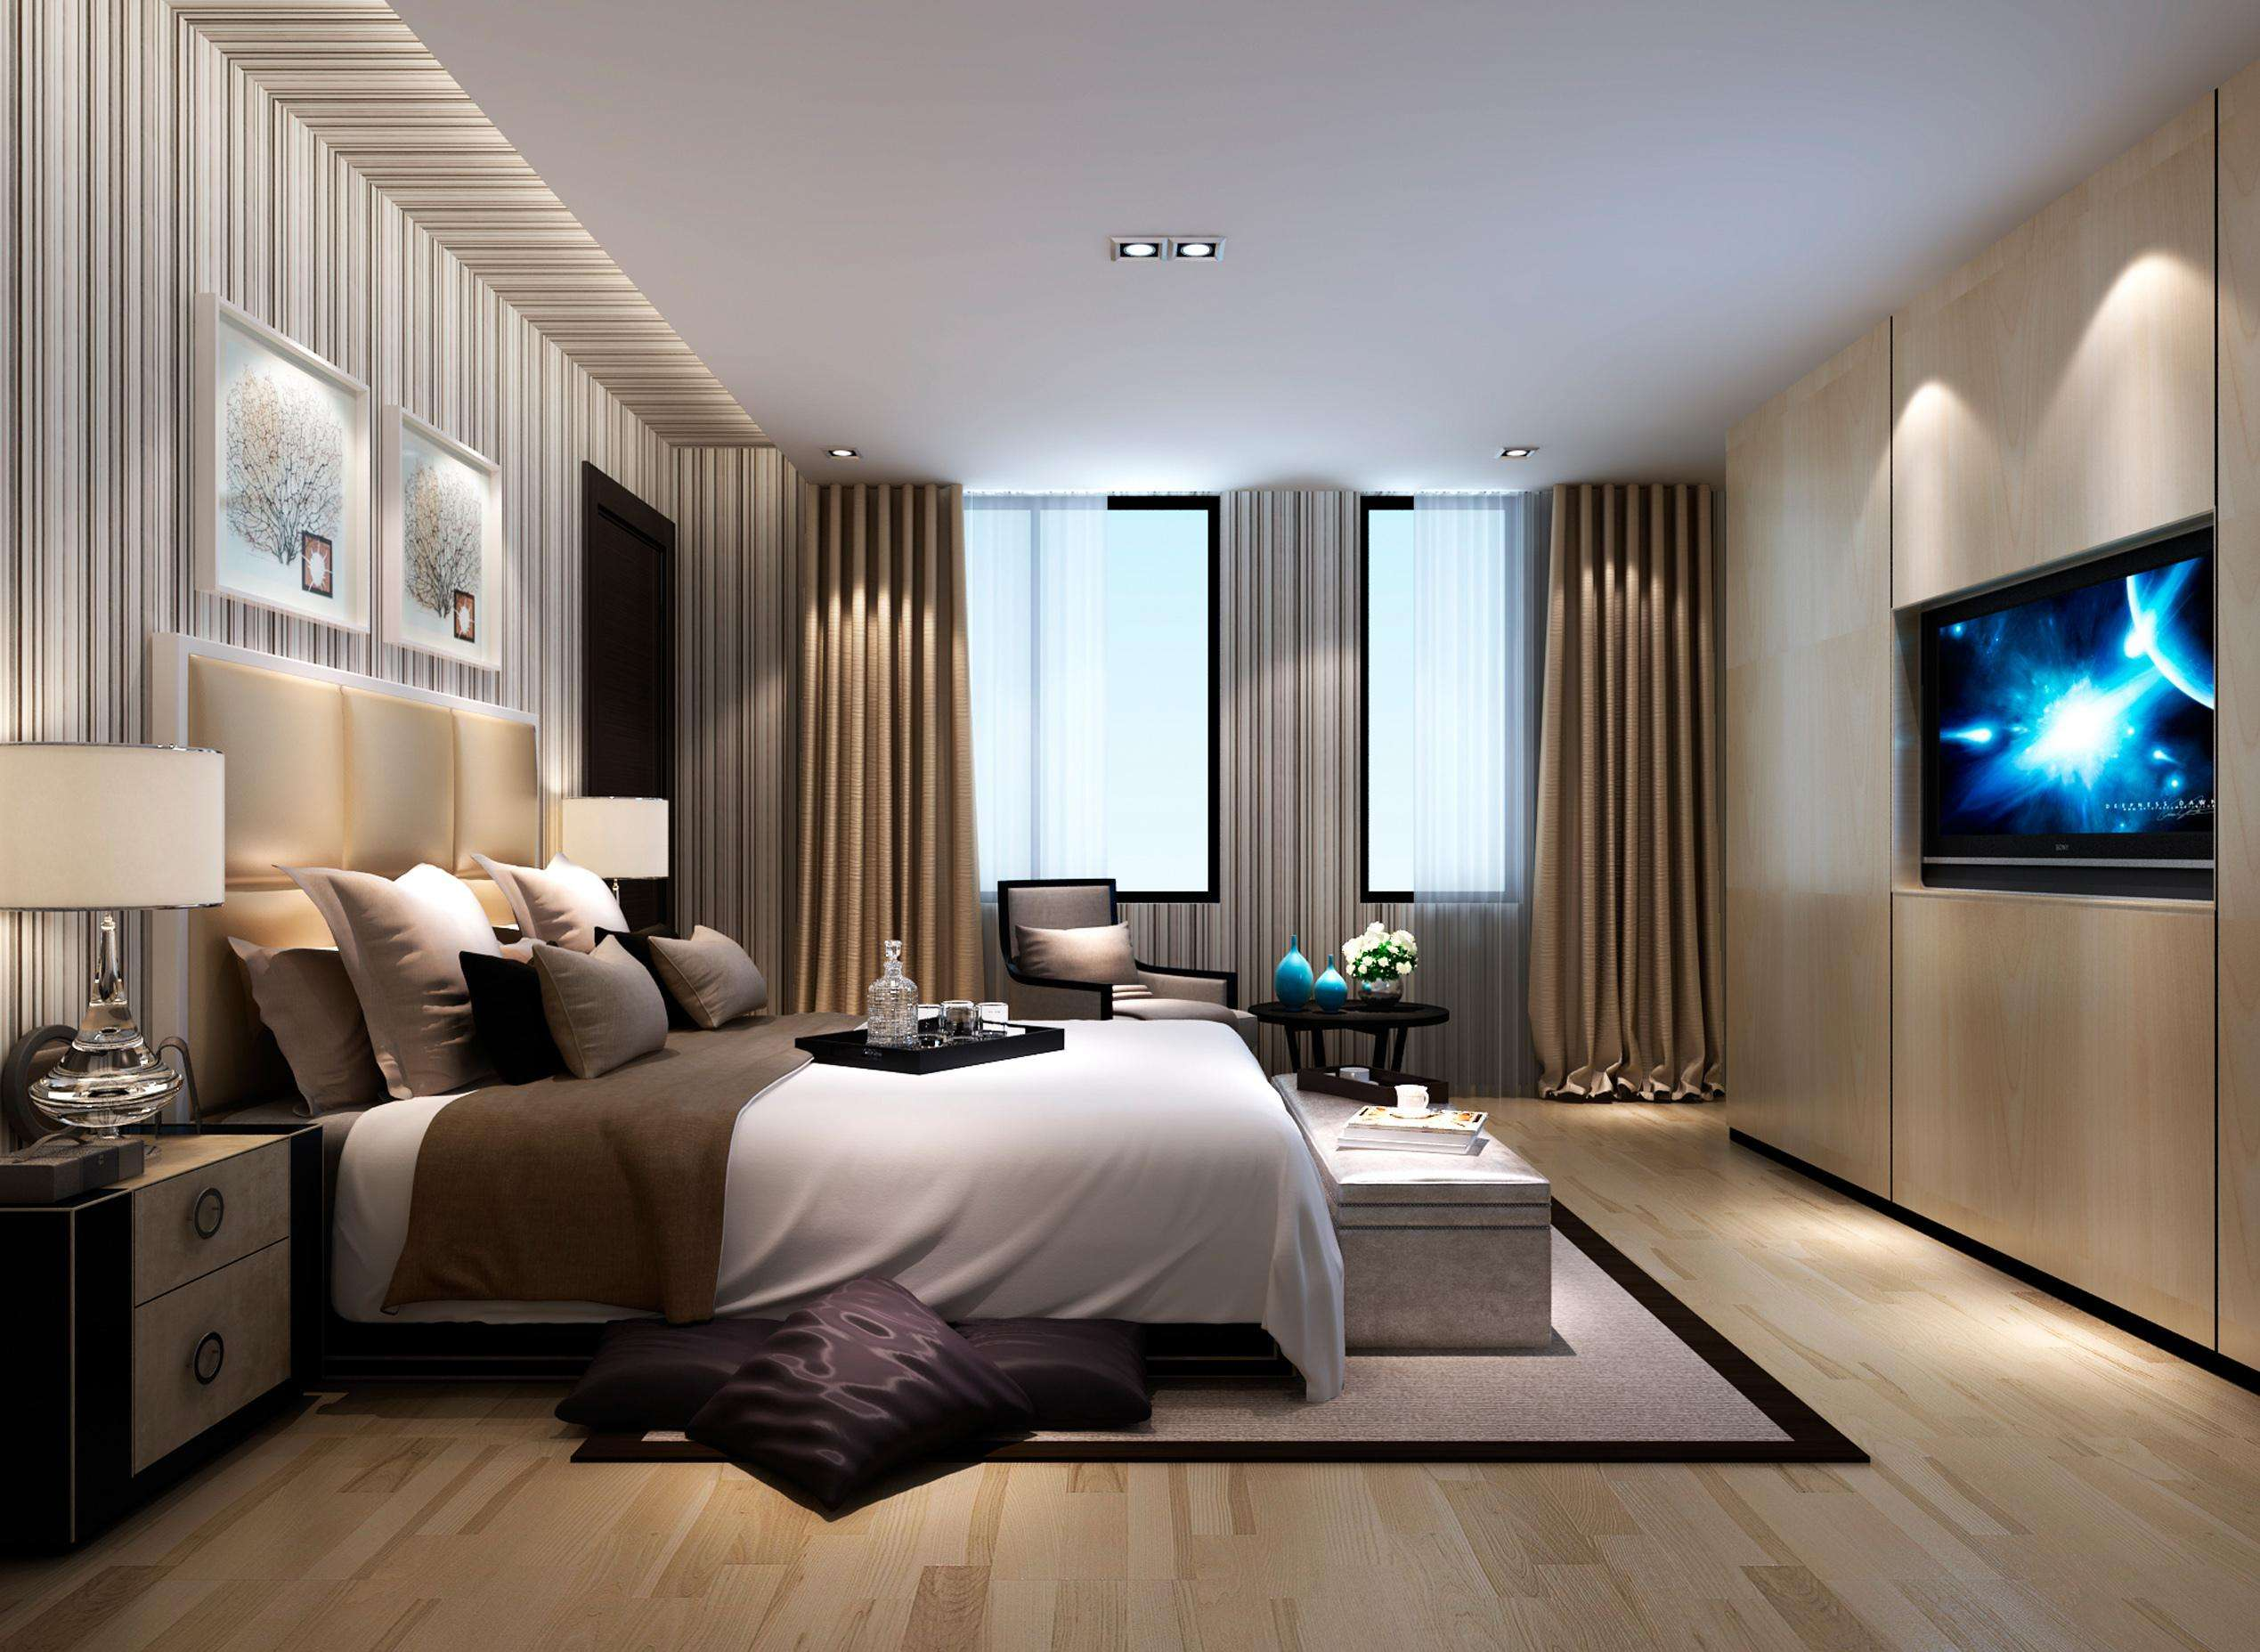床: (295, 1009, 1335, 1410)
枕头: (286, 832, 763, 1081), (1009, 920, 1146, 992)
灯: (7, 746, 218, 1141), (556, 794, 681, 892), (1098, 233, 1225, 270), (1491, 437, 1539, 476), (821, 446, 863, 470)
